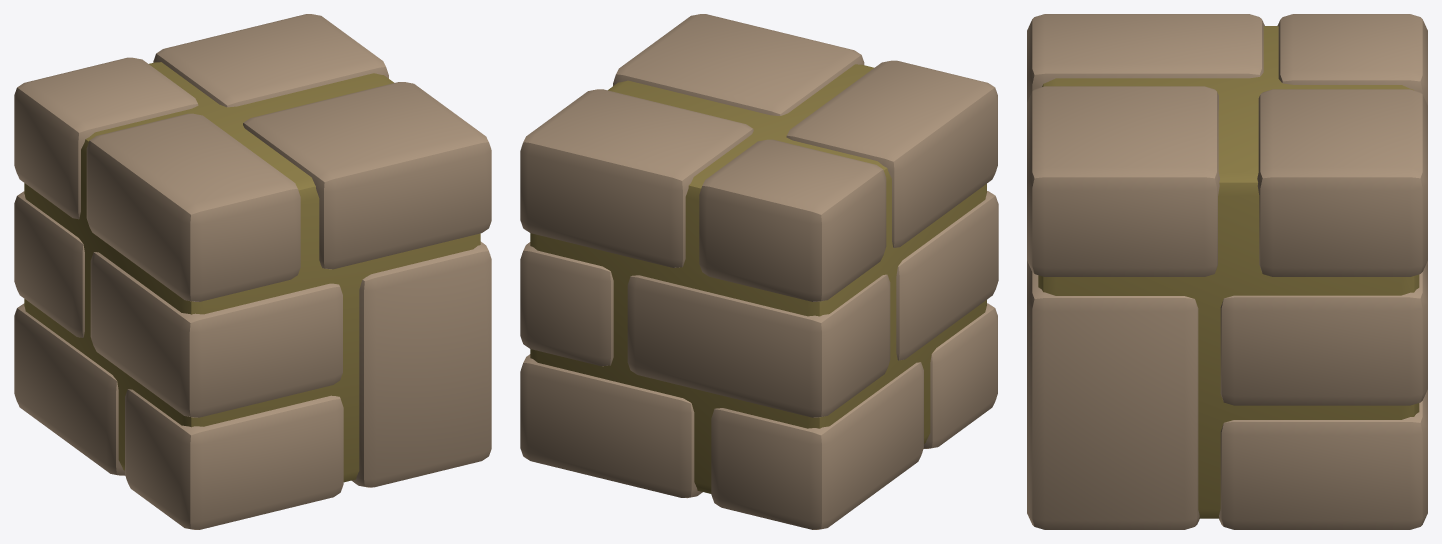
Rendered from quaternius-cube-world-block-greybricks.glb.
The picture shows the model from 3 angles, left to right: view 1: azimuth 30°, elevation 25°; view 2: azimuth 150°, elevation 25°; view 3: azimuth 270°, elevation 25°; orthographic projection. The views are drawn at different scales.
Parts seen in each view (by area): view 1: Block_GreyBricks; view 2: Block_GreyBricks; view 3: Block_GreyBricks.
Part boxes in pixels (left/top/right/bottom): Block_GreyBricks: left=14, top=14, right=491, bottom=529; Block_GreyBricks: left=520, top=14, right=998, bottom=529; Block_GreyBricks: left=1027, top=14, right=1427, bottom=529.
Size of the model in its own units: 2.01 by 2.02 by 2.03.
Materials: 1 (1 with a texture image).
